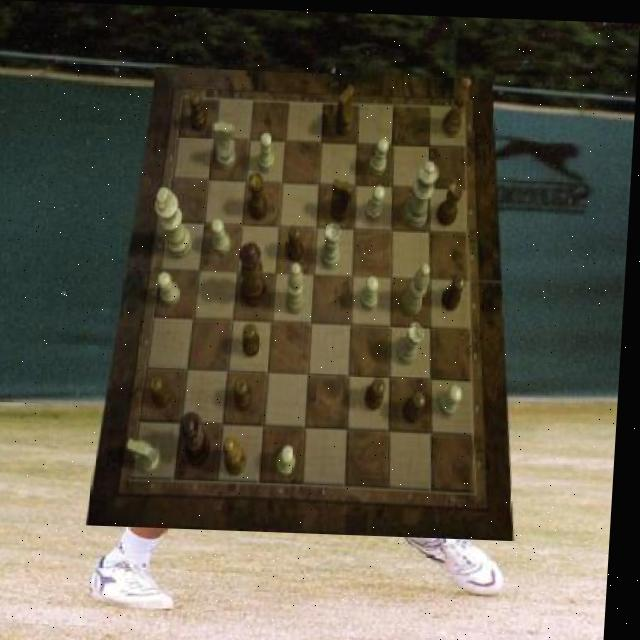bishop: (442, 73, 471, 134), (228, 435, 253, 474)
black-bishop: (181, 411, 216, 466)
black-king: (331, 176, 356, 221), (337, 82, 356, 133)
black-knight: (443, 272, 468, 308), (152, 374, 177, 409), (405, 389, 430, 422), (189, 90, 208, 131), (368, 374, 389, 409), (289, 221, 308, 259), (239, 375, 258, 410), (246, 320, 265, 355)
black-pawn: (241, 240, 274, 306)
black-queen: (438, 176, 466, 223), (249, 171, 271, 219)
black-rook: (405, 260, 433, 313), (289, 259, 311, 311)
white-bishop: (154, 186, 198, 258)
white-king: (130, 438, 168, 473), (213, 120, 239, 167)
white-knight: (212, 216, 235, 253), (160, 270, 185, 304), (441, 381, 466, 414), (367, 182, 388, 220), (370, 134, 390, 173), (258, 132, 277, 173), (364, 273, 383, 308), (281, 442, 301, 474)
white-pawn: (405, 158, 441, 227)
white-queen: (399, 320, 427, 363), (322, 221, 344, 267)
